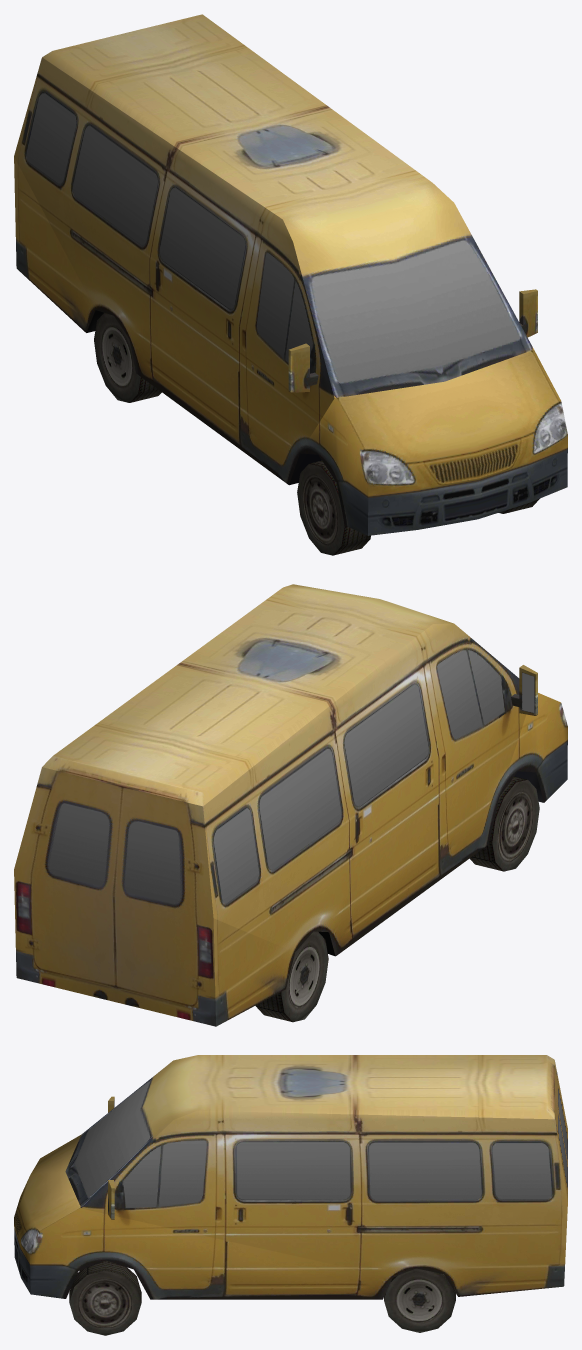
File: 14_gaz_gazelle_van.glb
3 renders of one model, top to bottom at view 1: azimuth 30°, elevation 25°; view 2: azimuth 150°, elevation 25°; view 3: azimuth 270°, elevation 25°, orthographic. The views are drawn at different scales.
Parts seen in each view (by area): view 1: gazel_wheel_holes_89, gazel_wheel_front.001_88, gazel_wheel_back.001_86; view 2: gazel_wheel_holes_89, gazel_wheel_front.001_88, gazel_wheel_back.001_86; view 3: gazel_wheel_holes_89, gazel_wheel_front_87, gazel_wheel_back_85.
Part boxes in pixels (<box>): gazel_wheel_holes_89: <box>14,14,567,535</box>; gazel_wheel_front.001_88: <box>297,460,370,555</box>; gazel_wheel_back.001_86: <box>94,313,161,402</box>; gazel_wheel_holes_89: <box>14,584,567,1026</box>; gazel_wheel_front.001_88: <box>469,776,539,871</box>; gazel_wheel_back.001_86: <box>255,931,328,1022</box>; gazel_wheel_holes_89: <box>14,1055,567,1299</box>; gazel_wheel_front_87: <box>69,1260,141,1335</box>; gazel_wheel_back_85: <box>384,1268,455,1332</box>.
Bounding box in the file's own units: 2.37 × 2.6 × 6.06.
1 material, 1 textured.
